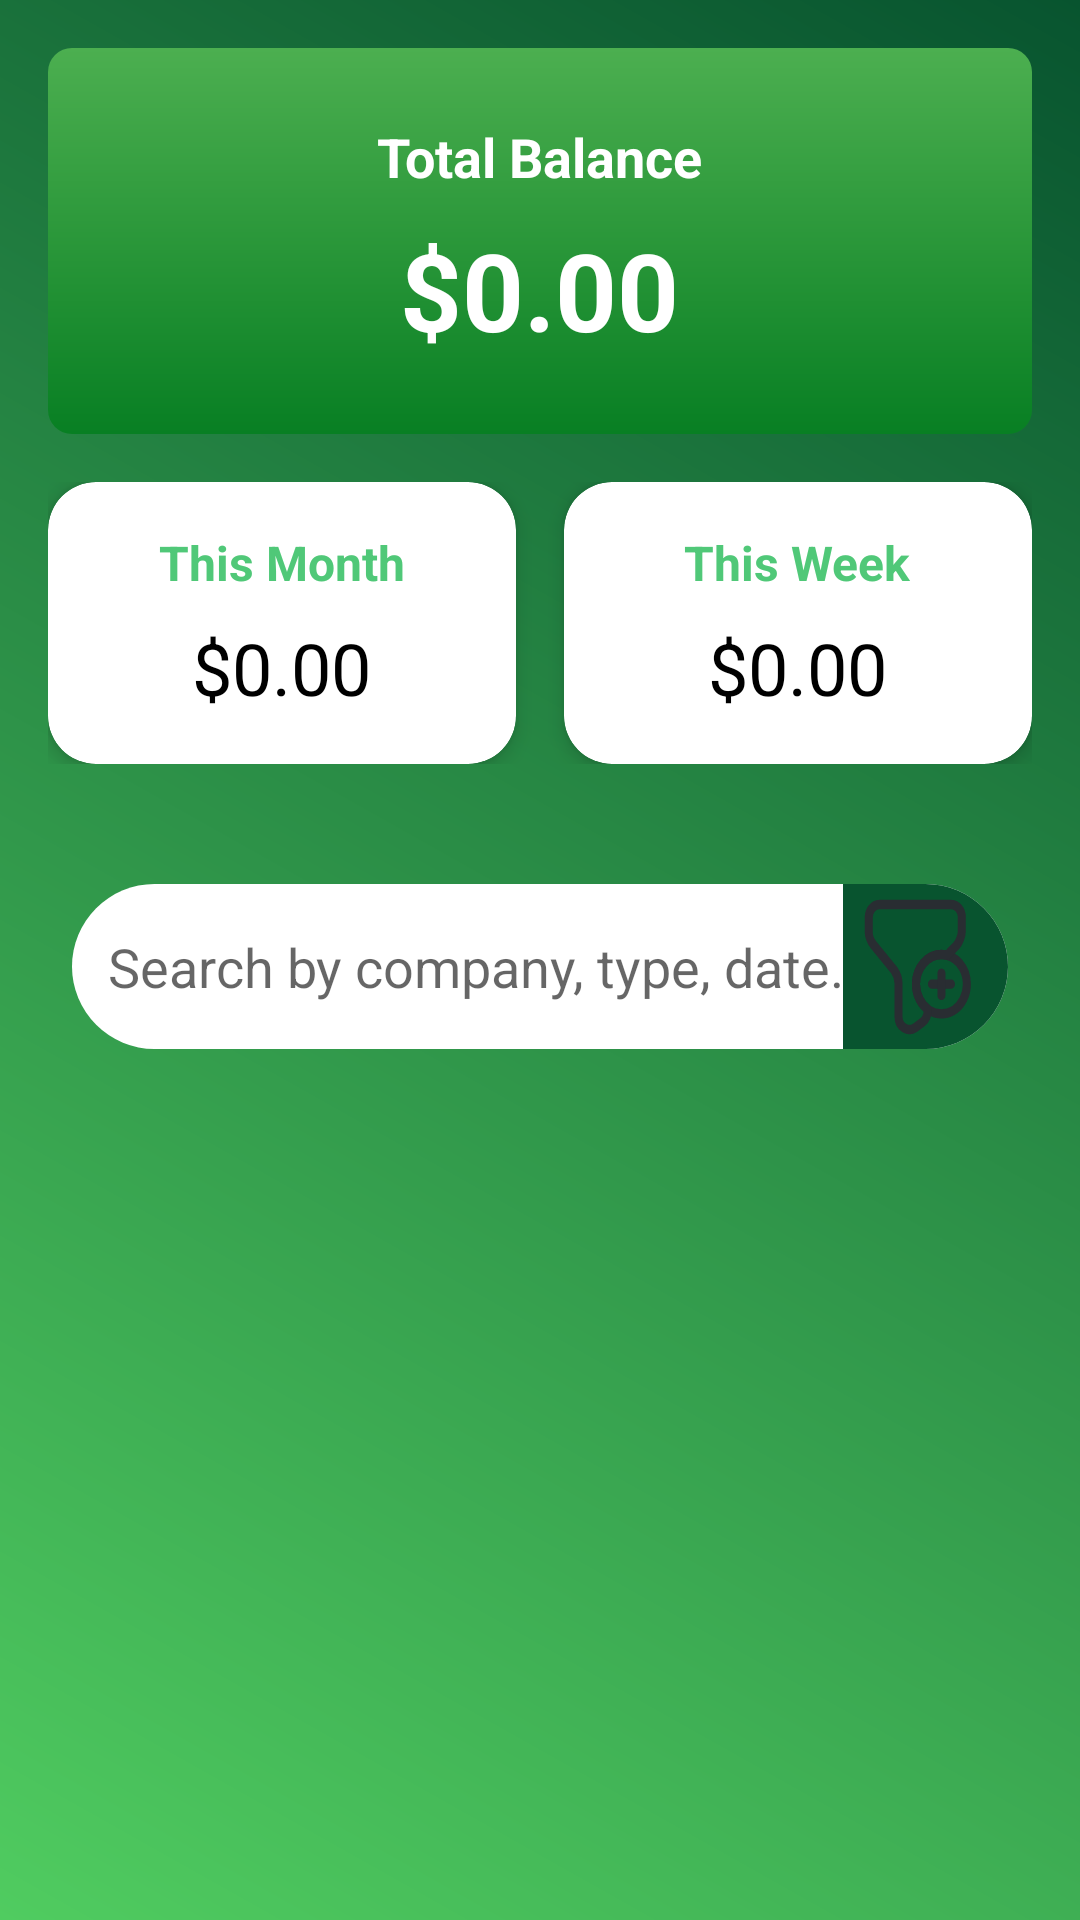

Where icons sit on this 1080px×1920px app screen, as (x1, y1, x2, y2):
filter list: (843, 884, 1008, 1049)
